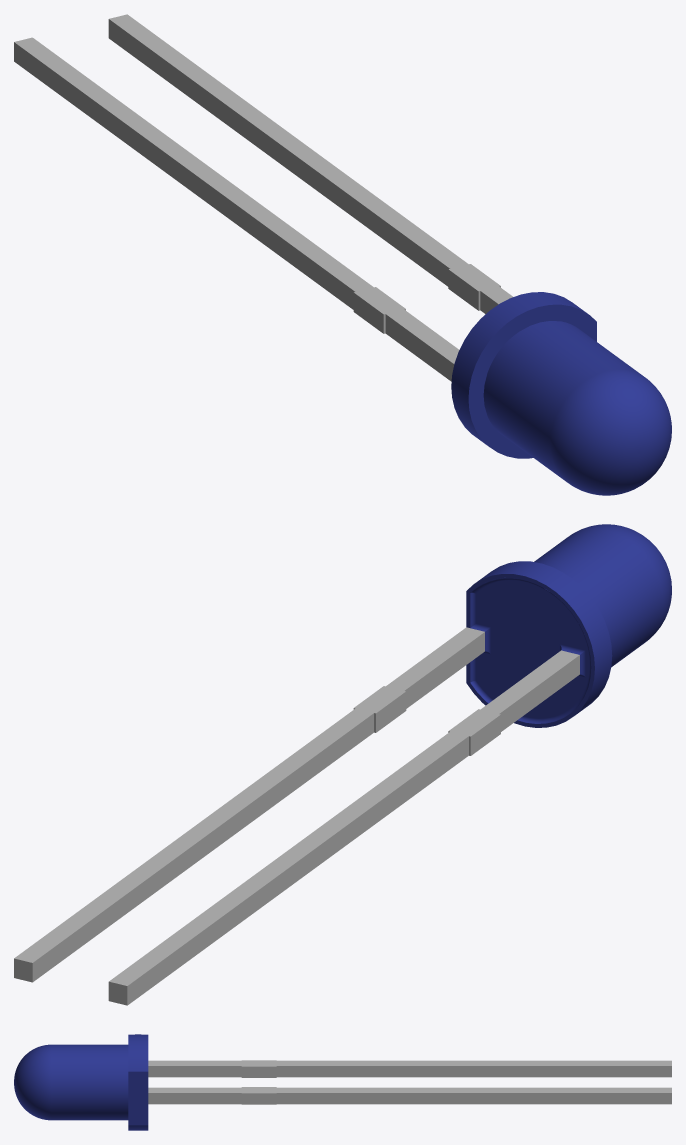
The model's file is LED 3mm Red 21mm Leads v2.fbx.
3 views of the same model, one above another, from view 1: azimuth 30°, elevation 25°; view 2: azimuth 150°, elevation 25°; view 3: azimuth 270°, elevation 25° (orthographic). The views are drawn at different scales.
Visible parts, largest first — view 1: Body1 (×3); view 2: Body1 (×3); view 3: Body1 (×3).
Part boxes in pixels (x1,y1,x2,y2): Body1 (×3): [14, 14, 671, 495]; Body1 (×3): [14, 524, 671, 1005]; Body1 (×3): [14, 1034, 671, 1130].
Size of the model in its own units: 3.5 by 3.85 by 26.38.
